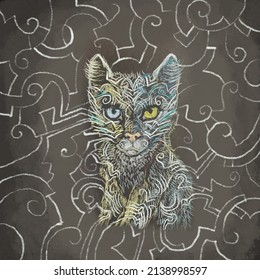cat: (83, 50, 197, 232)
